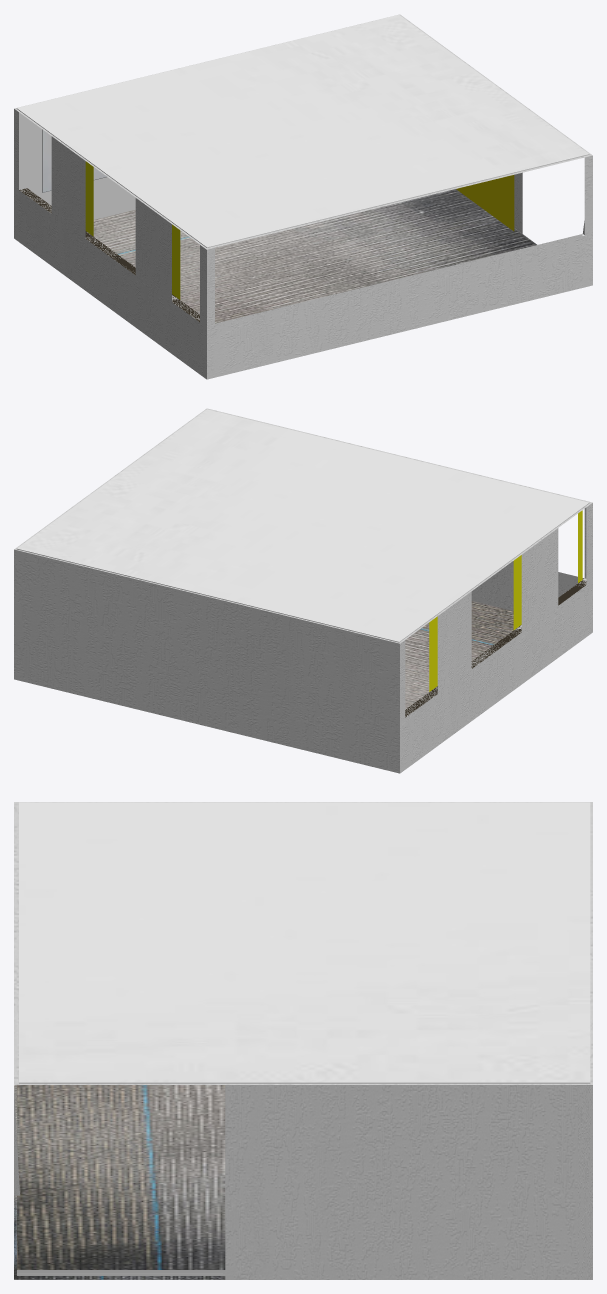
Rendered from Classroom.fbx.
The picture shows the model from 3 angles, top to bottom: view 1: azimuth 30°, elevation 25°; view 2: azimuth 150°, elevation 25°; view 3: azimuth 270°, elevation 25°; orthographic projection. The views are drawn at different scales.
Parts seen in each view (by area): view 1: pCube4, pCube1, pCube2, pCube3; view 2: pCube1, pCube4, pCube2; view 3: pCube4, pCube1, pCube2.
Boxes of the visible parts, x1,y1,x2,y2 form: pCube4: (16, 15, 589, 247); pCube1: (14, 14, 592, 379); pCube2: (93, 189, 535, 323); pCube3: (42, 129, 106, 192); pCube1: (14, 408, 592, 773); pCube4: (17, 409, 589, 642); pCube2: (405, 601, 513, 709); pCube4: (19, 802, 590, 1083); pCube1: (14, 802, 592, 1279); pCube2: (17, 1085, 225, 1275).
Bounding box in the file's own units: 20.82 × 6.73 × 18.01.
